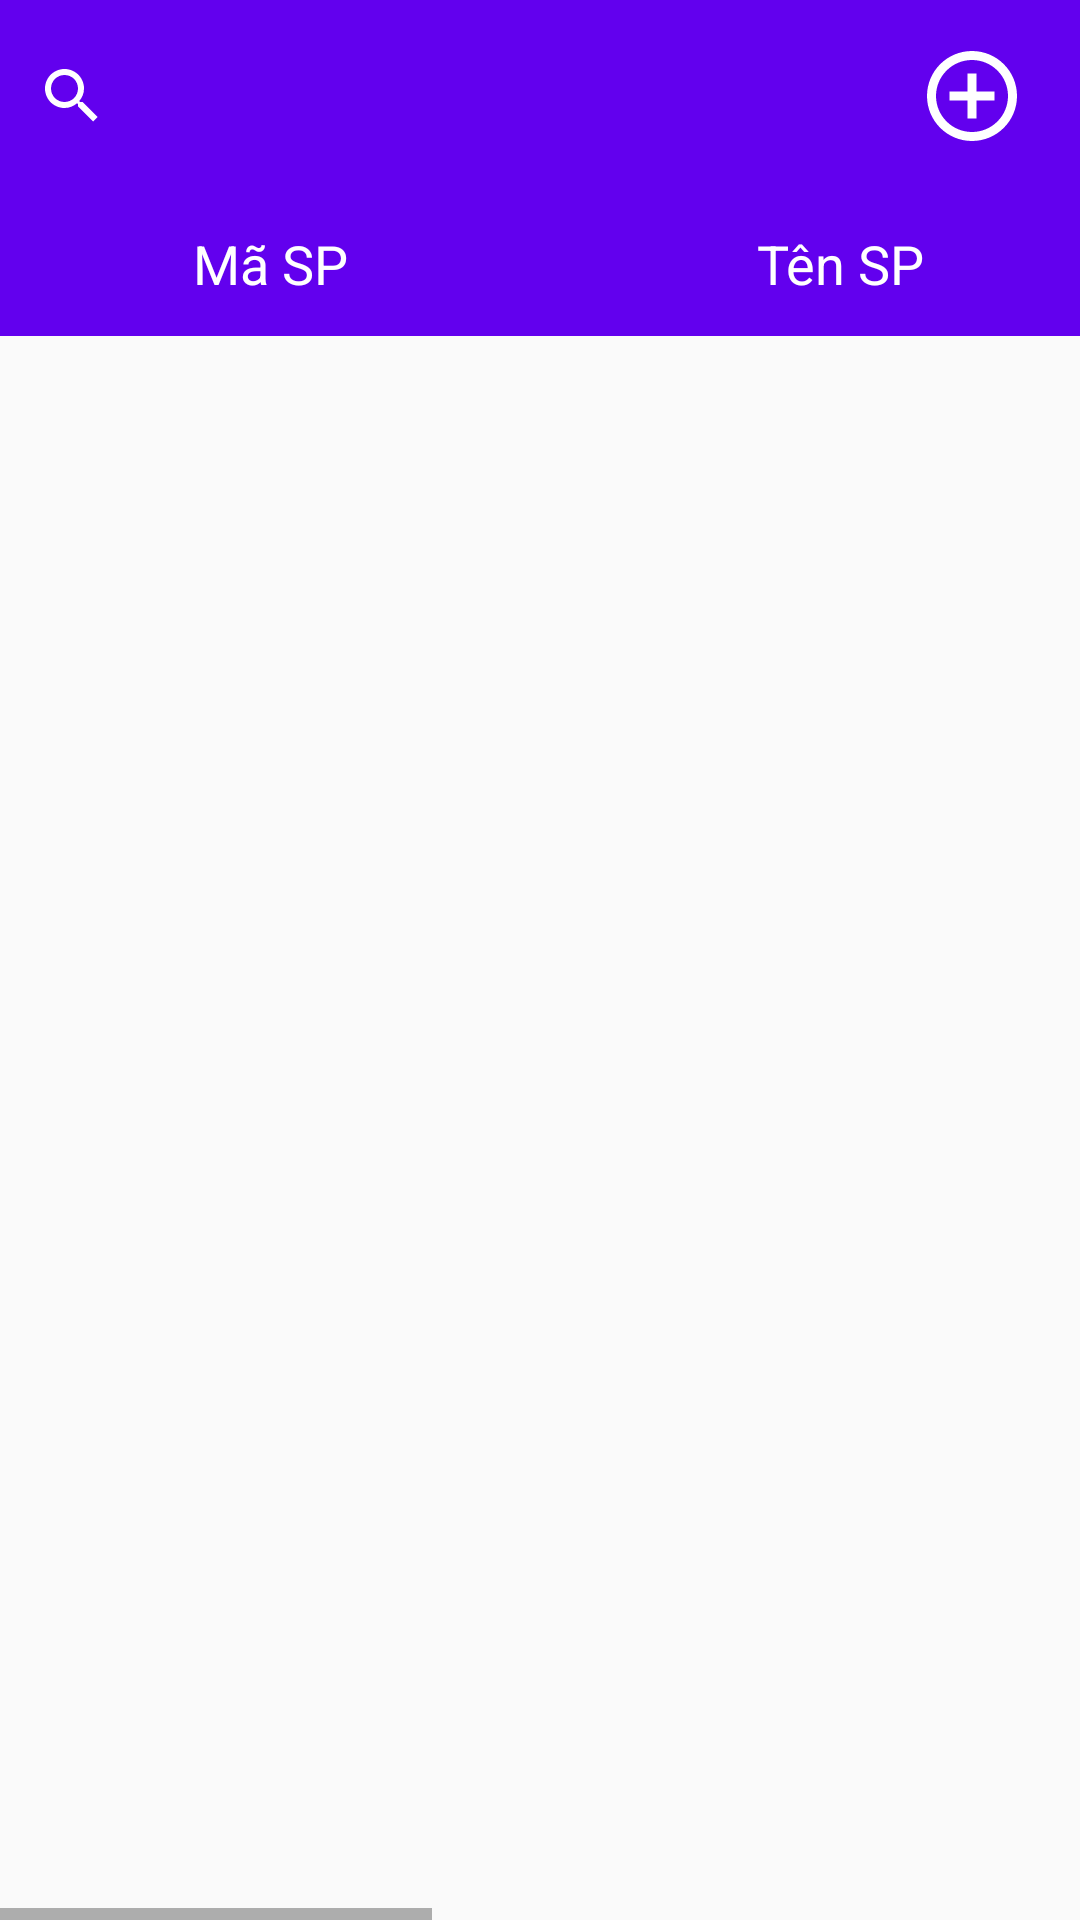

Screen size 1080×1920. Icon name, then its box in pixels as rect(x1, y1, x2, y2):
Tạo mới: rect(927, 51, 1017, 141)
